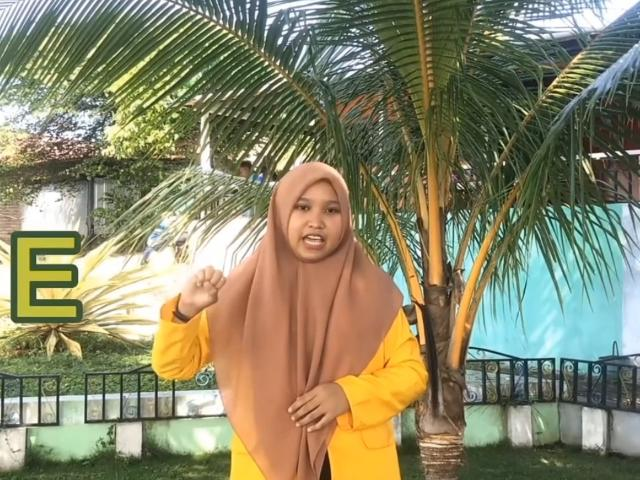E: (182, 266, 226, 314)
